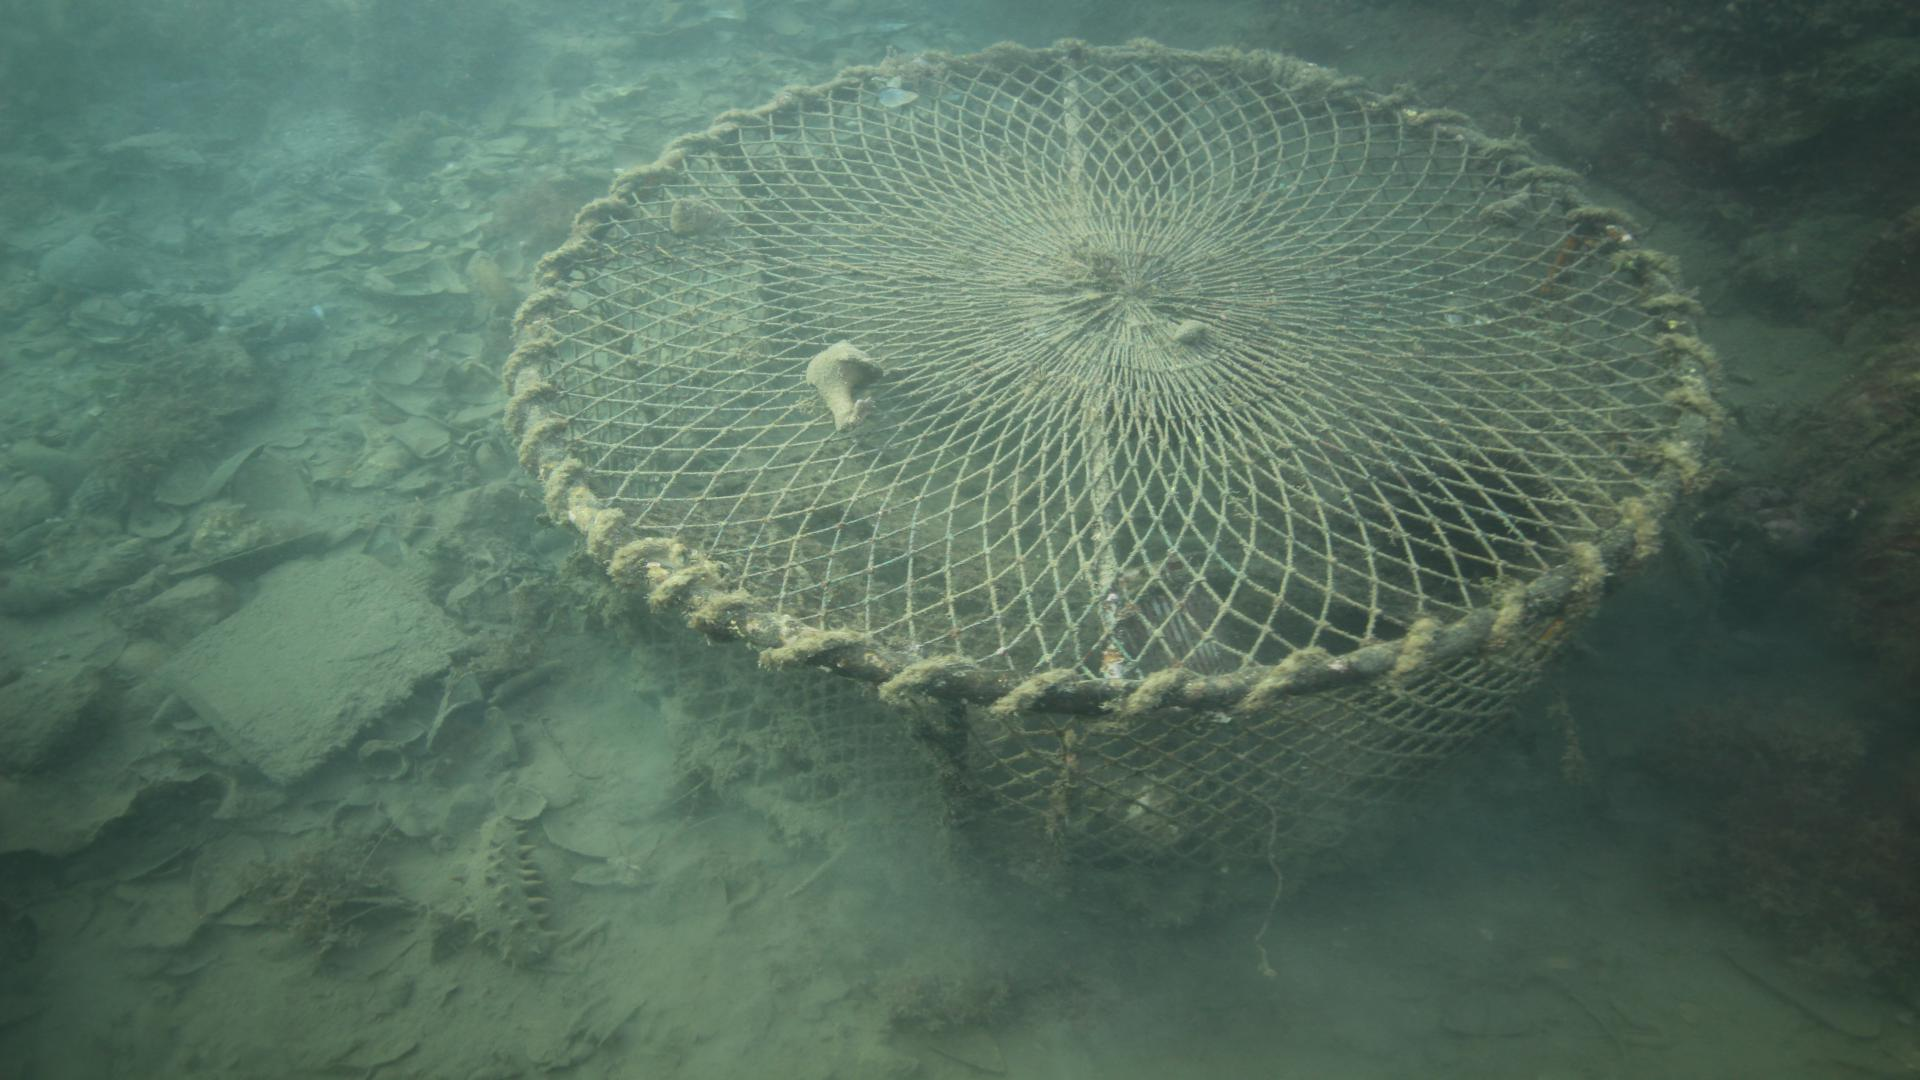circular fish trap: (498, 33, 1726, 928)
